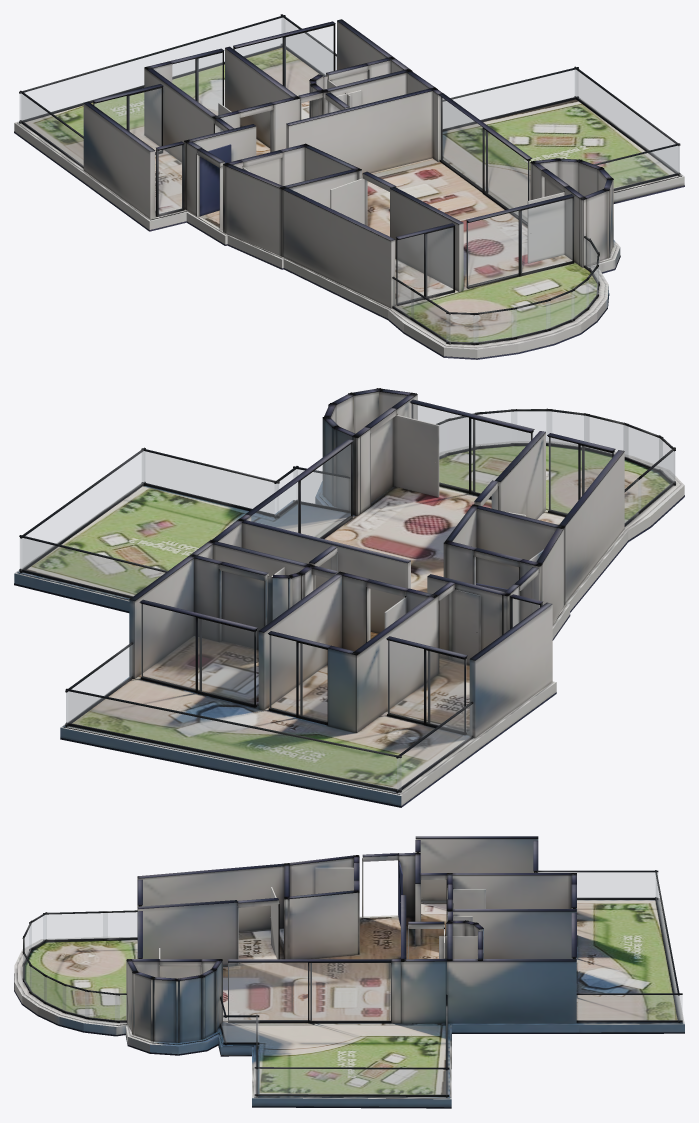
3 views of the same model, one above another, from view 1: azimuth 30°, elevation 25°; view 2: azimuth 150°, elevation 25°; view 3: azimuth 270°, elevation 25° (orthographic). The views are drawn at different scales.
Visible parts, largest first — view 1: plan, glass5_m, railg0_m, glass6_m, glass1_m, railg5_m, glass4_m, railg8_m, glass2_m, glass0_m, railg6_m, railg4_m (+8 smaller); view 2: plan, railg0_m, glass1_m, glass2_m, glass5_m, glass6_m, railg6_m, railg5_m, glass0_m, railg8_m, glass4_m, railg4_m (+9 smaller); view 3: plan, glass6_m, railg8_m, railg2_m, railg4_m, railg17_m, railg18_m, railg10_m, railg1_m, railg11_m, railg12_m, railg0_m (+2 smaller).
Part boxes in pixels (x1,y1,x2,y2): plan: (14, 14, 684, 359); glass5_m: (467, 198, 572, 286); railg0_m: (19, 18, 284, 121); glass6_m: (440, 97, 529, 221); glass1_m: (234, 26, 333, 95); railg5_m: (443, 70, 577, 128); glass4_m: (397, 228, 452, 303); railg8_m: (575, 70, 679, 173); glass2_m: (94, 88, 161, 151); glass0_m: (172, 53, 222, 115); railg6_m: (597, 146, 679, 188); railg4_m: (21, 94, 83, 165); plan: (14, 388, 684, 807); railg0_m: (66, 691, 401, 789); glass1_m: (141, 604, 256, 704); glass2_m: (388, 640, 466, 731); glass5_m: (411, 404, 530, 493); glass6_m: (251, 444, 350, 537); railg6_m: (142, 451, 278, 515); railg5_m: (20, 538, 164, 596); glass0_m: (269, 635, 327, 721); railg8_m: (21, 451, 144, 570); glass4_m: (548, 437, 611, 514); railg4_m: (397, 705, 472, 790); plan: (14, 836, 684, 1108); glass6_m: (228, 963, 390, 1020); railg8_m: (255, 1069, 448, 1094); railg2_m: (577, 995, 682, 1020); railg4_m: (539, 872, 657, 897); railg17_m: (43, 913, 107, 939); railg18_m: (103, 912, 137, 938); railg10_m: (85, 992, 119, 1020); railg1_m: (223, 1017, 258, 1042); railg11_m: (63, 985, 89, 1017); railg12_m: (44, 976, 65, 1011); railg0_m: (656, 879, 678, 1017).
Size of the model in its own units: 15.73 by 2.62 by 22.15.
2 materials, 1 textured.
